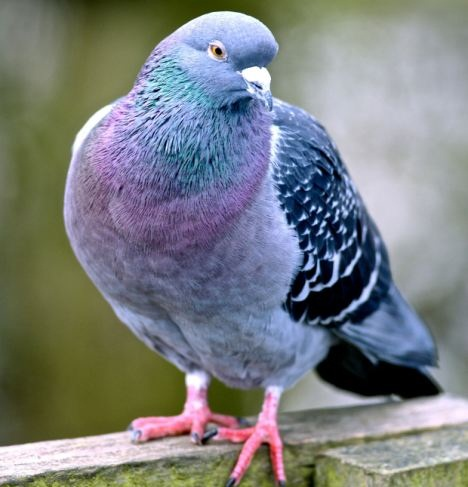pheasant: (69, 11, 433, 440)
